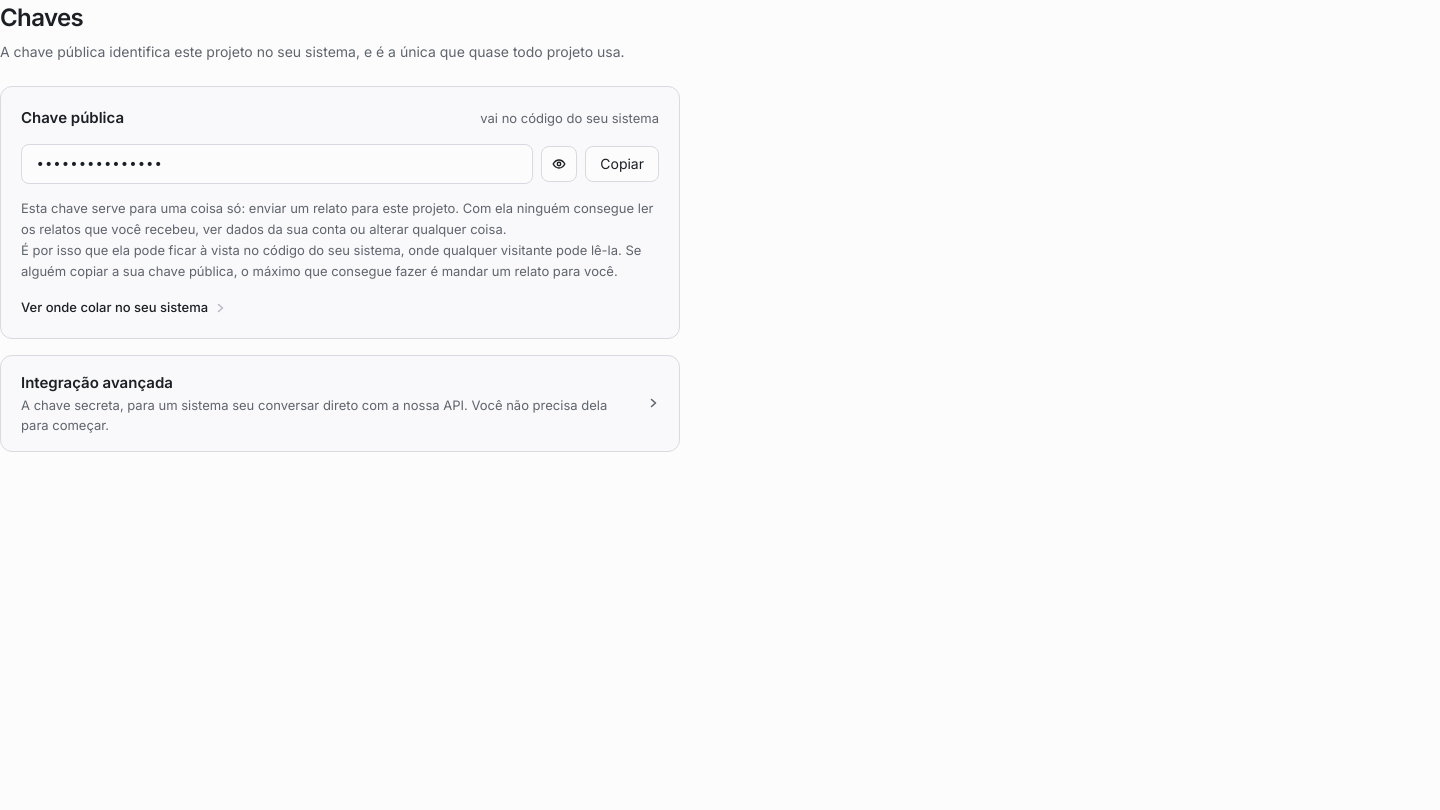
Test case: ProjectKeysScreen › gerar a primeira é neutro: só avisa que o valor aparece uma vez
Click the button "Integração avançada" at (340, 403), box [1,356,679,451]
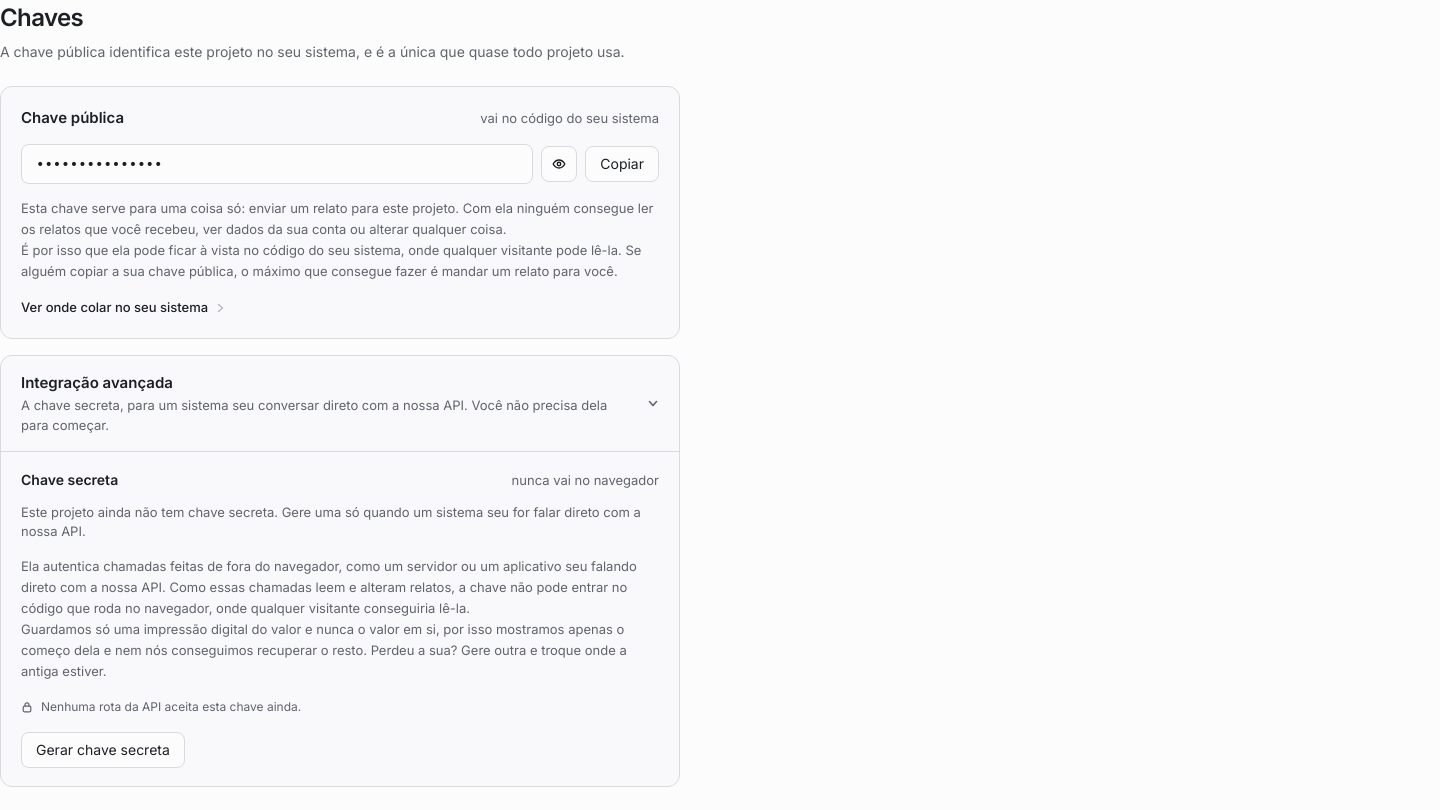
Click the button "Gerar chave secreta" at (103, 750), box [21,732,185,768]
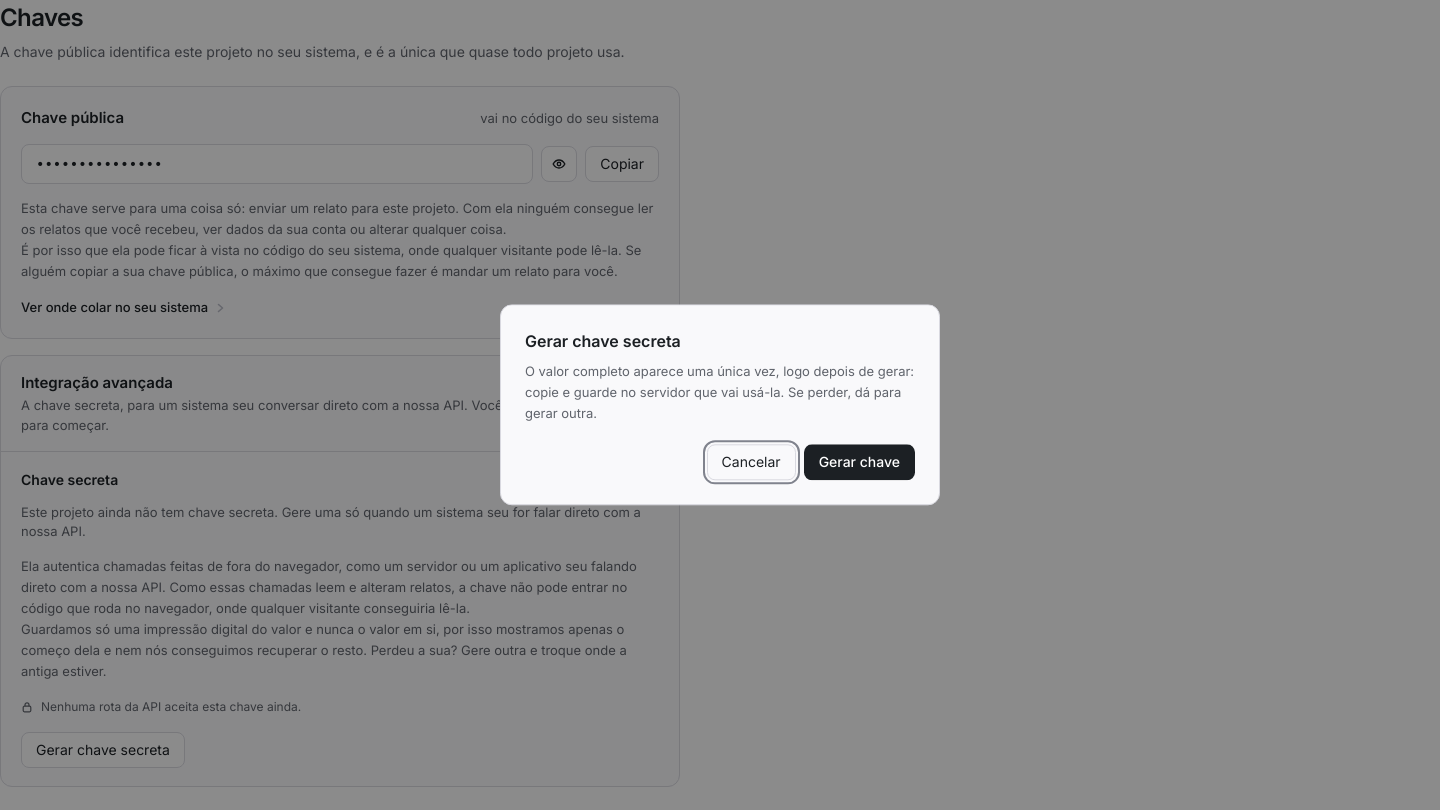
Expected: the text "O valor completo aparece uma única vez" is shown, [525,363,914,422]
Click the button "Gerar chave" at (859, 463), box [804,445,915,481]
(page scrolled)
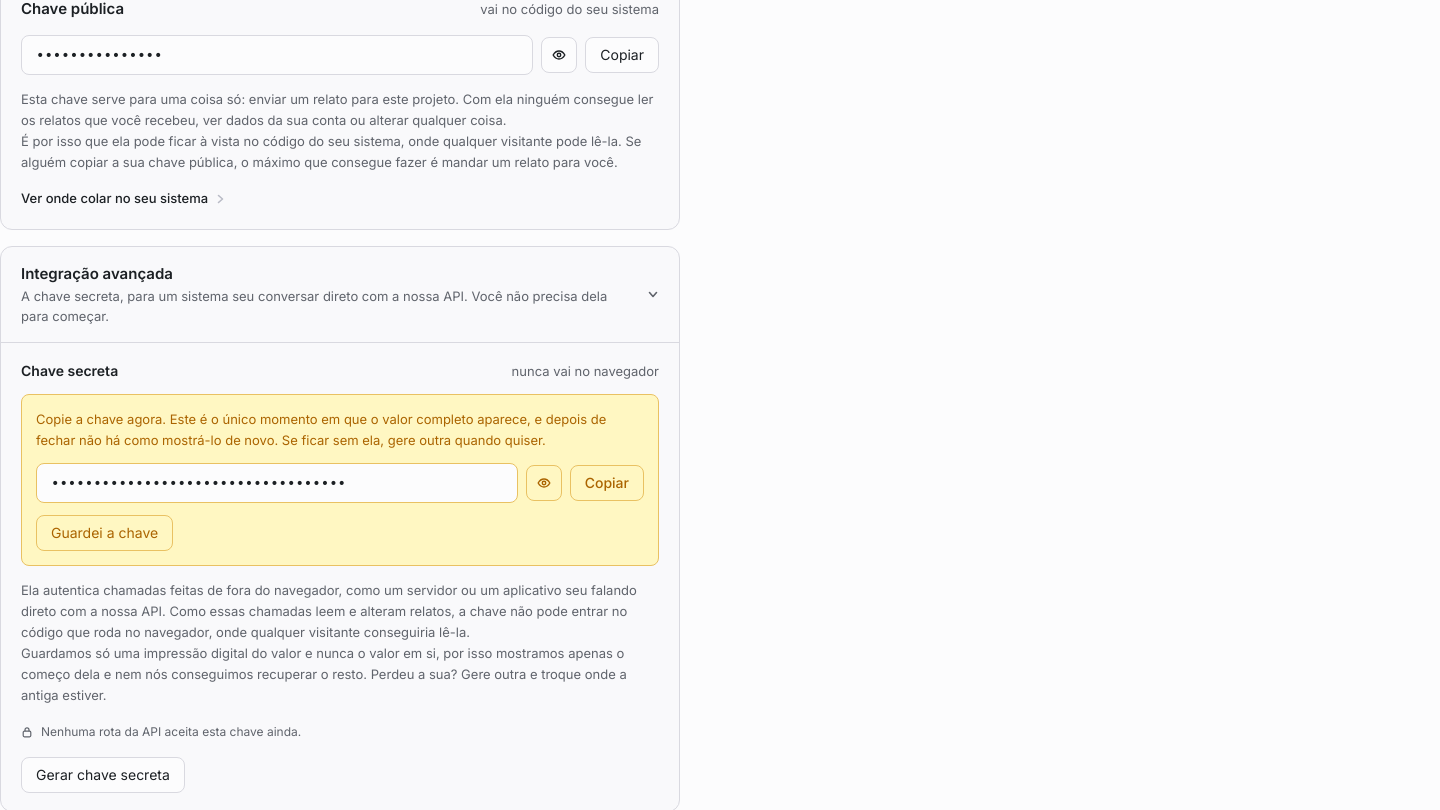
Expected: the text "Copie a chave agora" is shown, [36,410,606,448]
